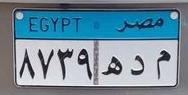3: (57, 48, 75, 80)
7: (36, 48, 56, 80)
8: (18, 48, 34, 81)
9: (78, 47, 92, 80)
daal: (129, 52, 148, 76)
haa: (100, 52, 124, 78)
meem: (151, 47, 173, 81)
